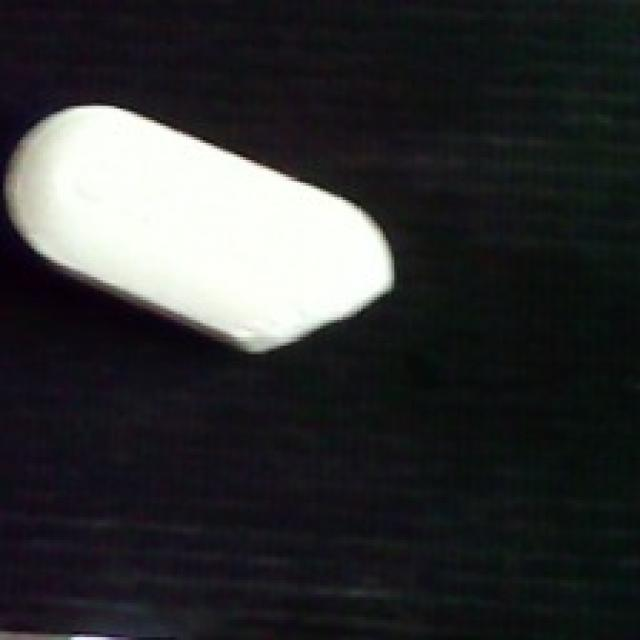defected: (0, 96, 400, 363)
